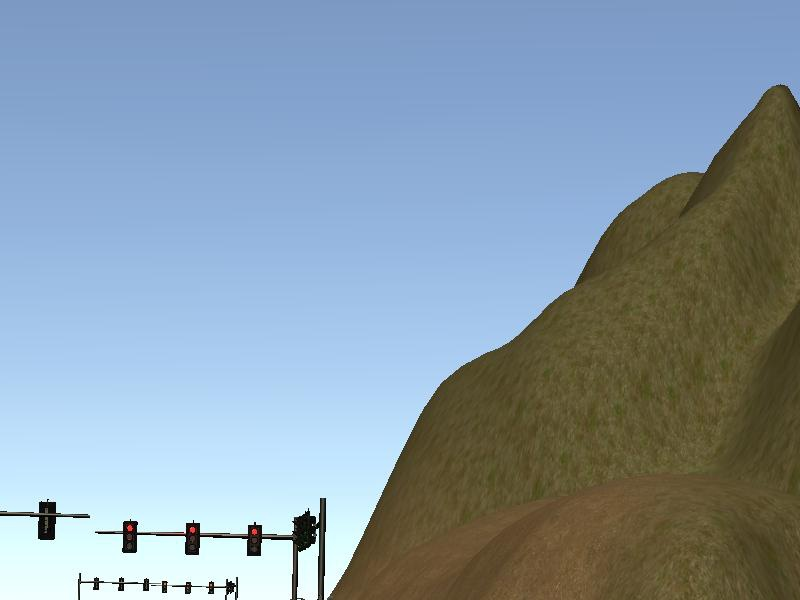Red: (244, 522, 261, 556), (184, 521, 201, 555), (121, 519, 138, 553)
